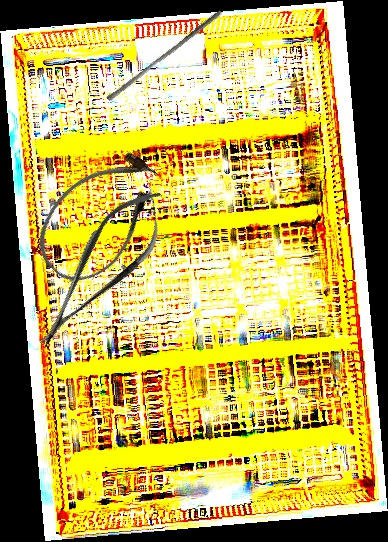Cannula: (20, 135, 179, 298)
Micro Scissor: (16, 175, 185, 362)
Pusher: (106, 5, 223, 106)
